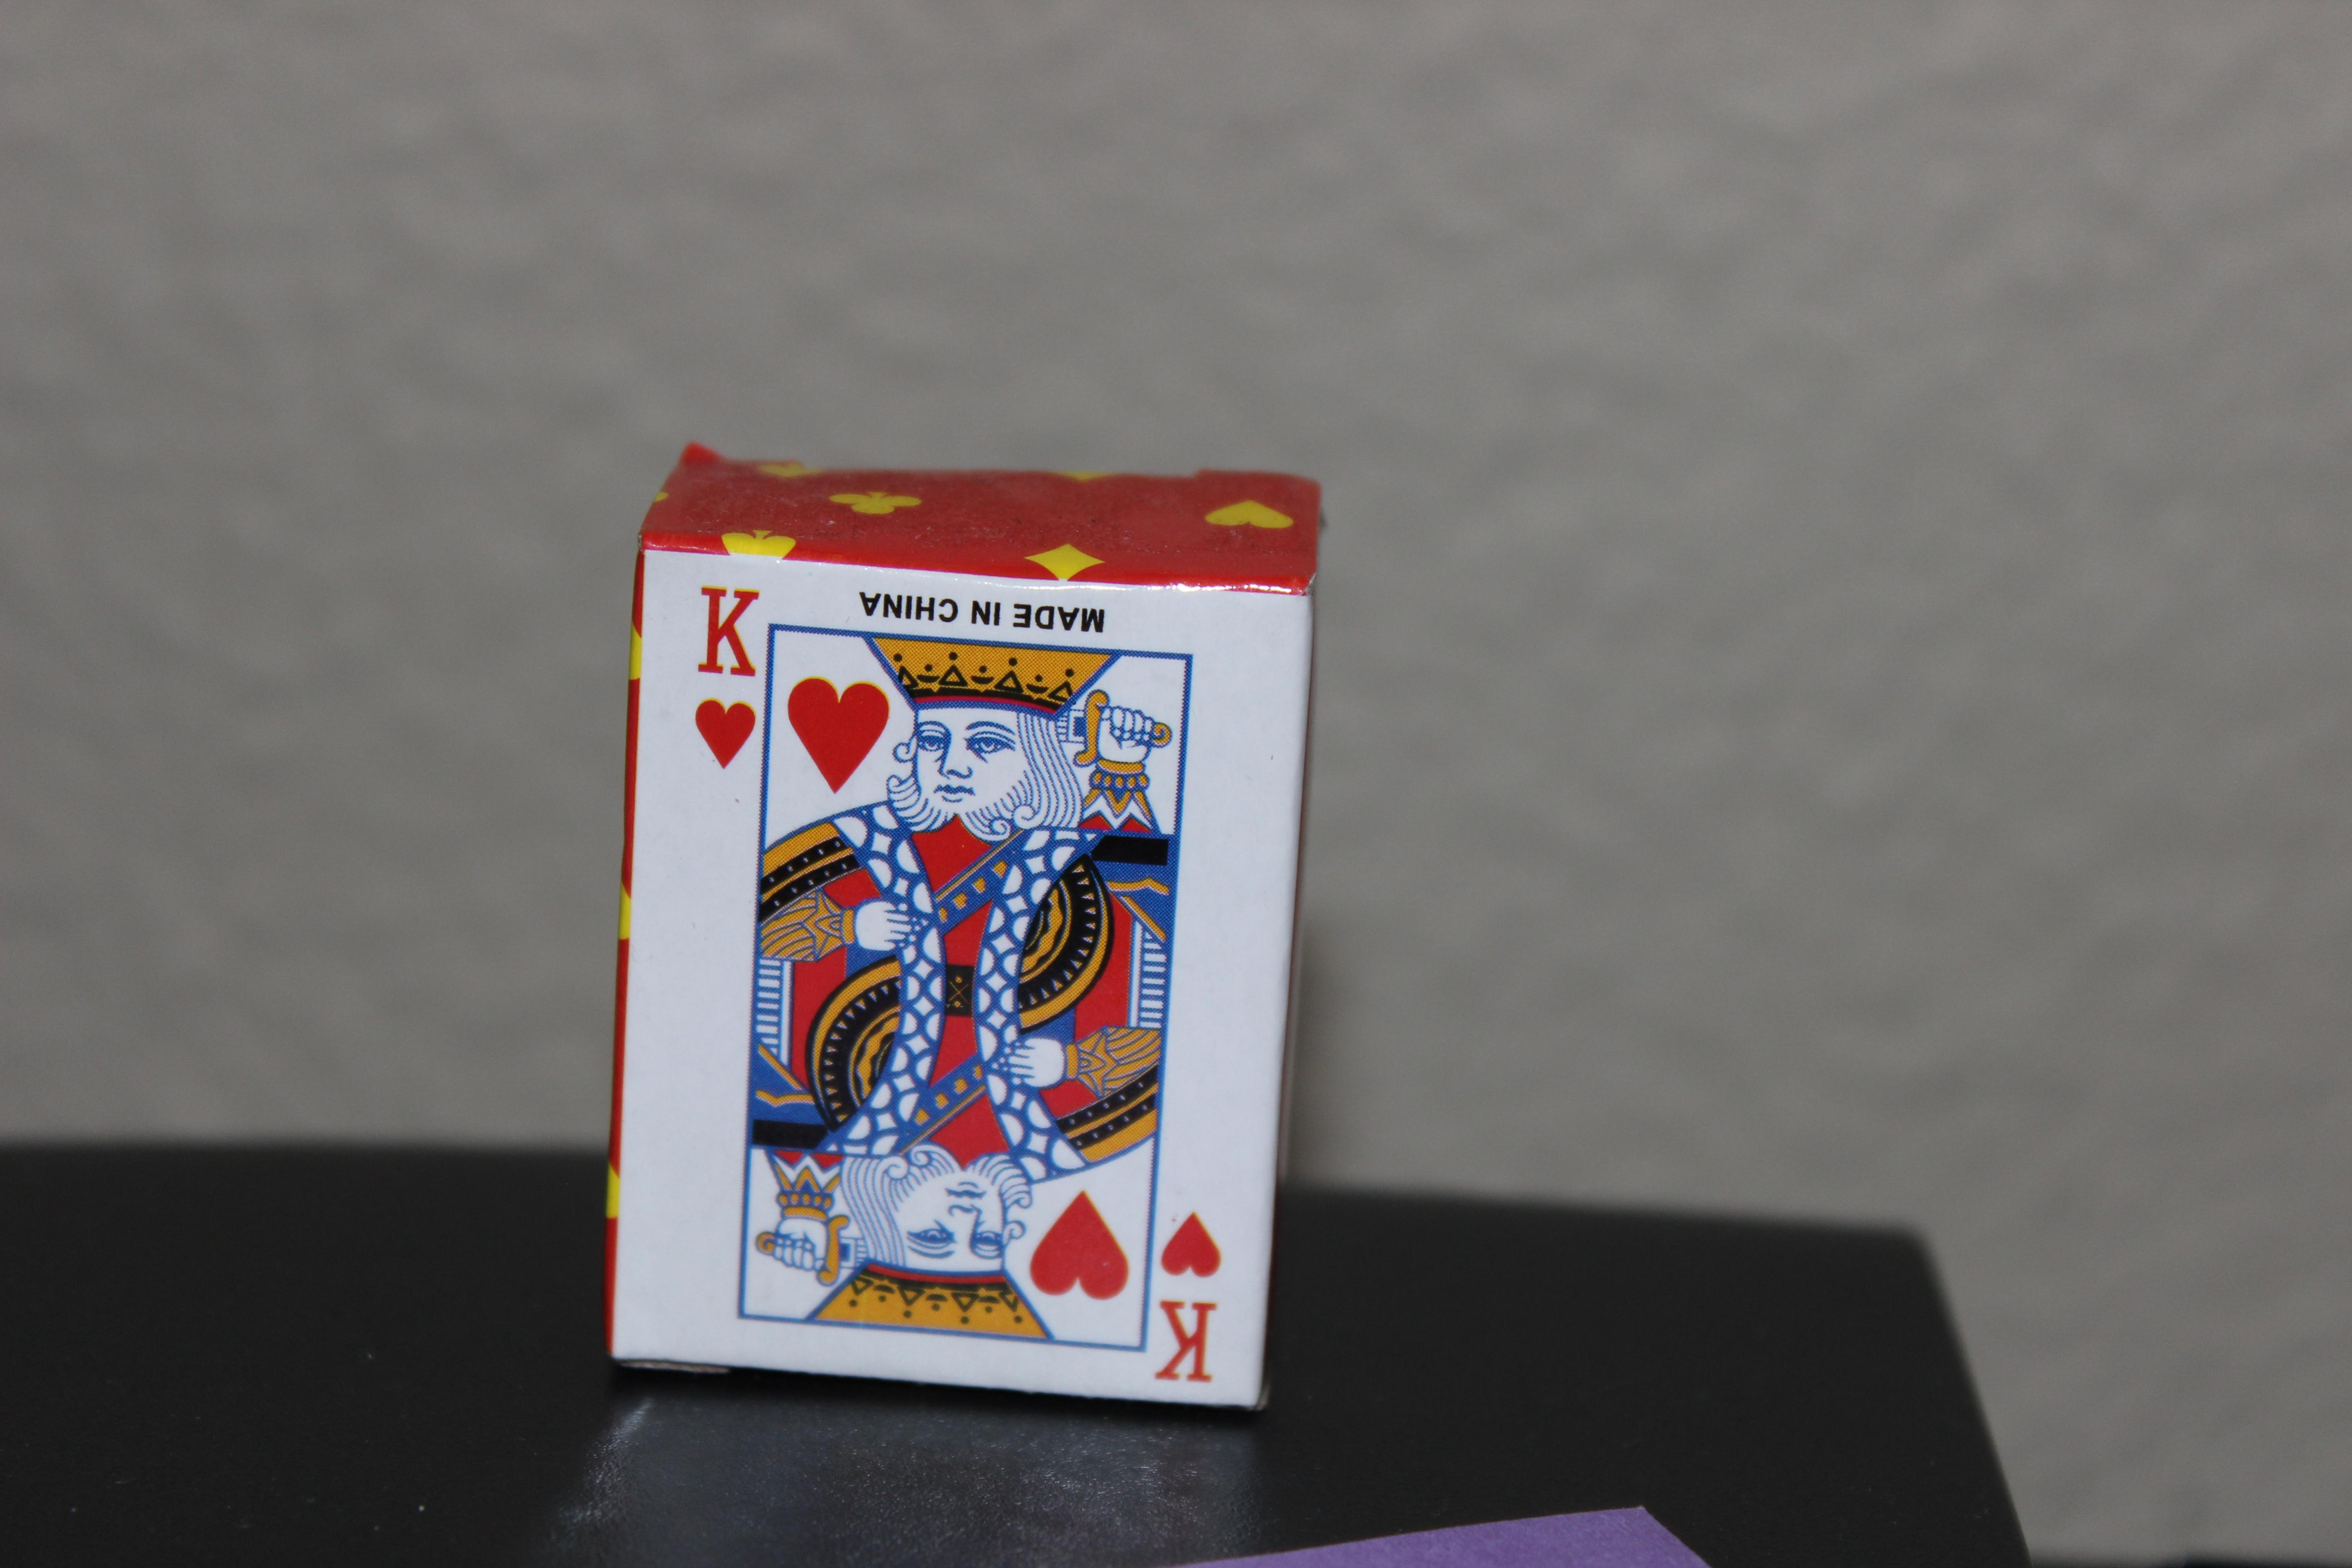miniCards: (527, 408, 1360, 1444)
